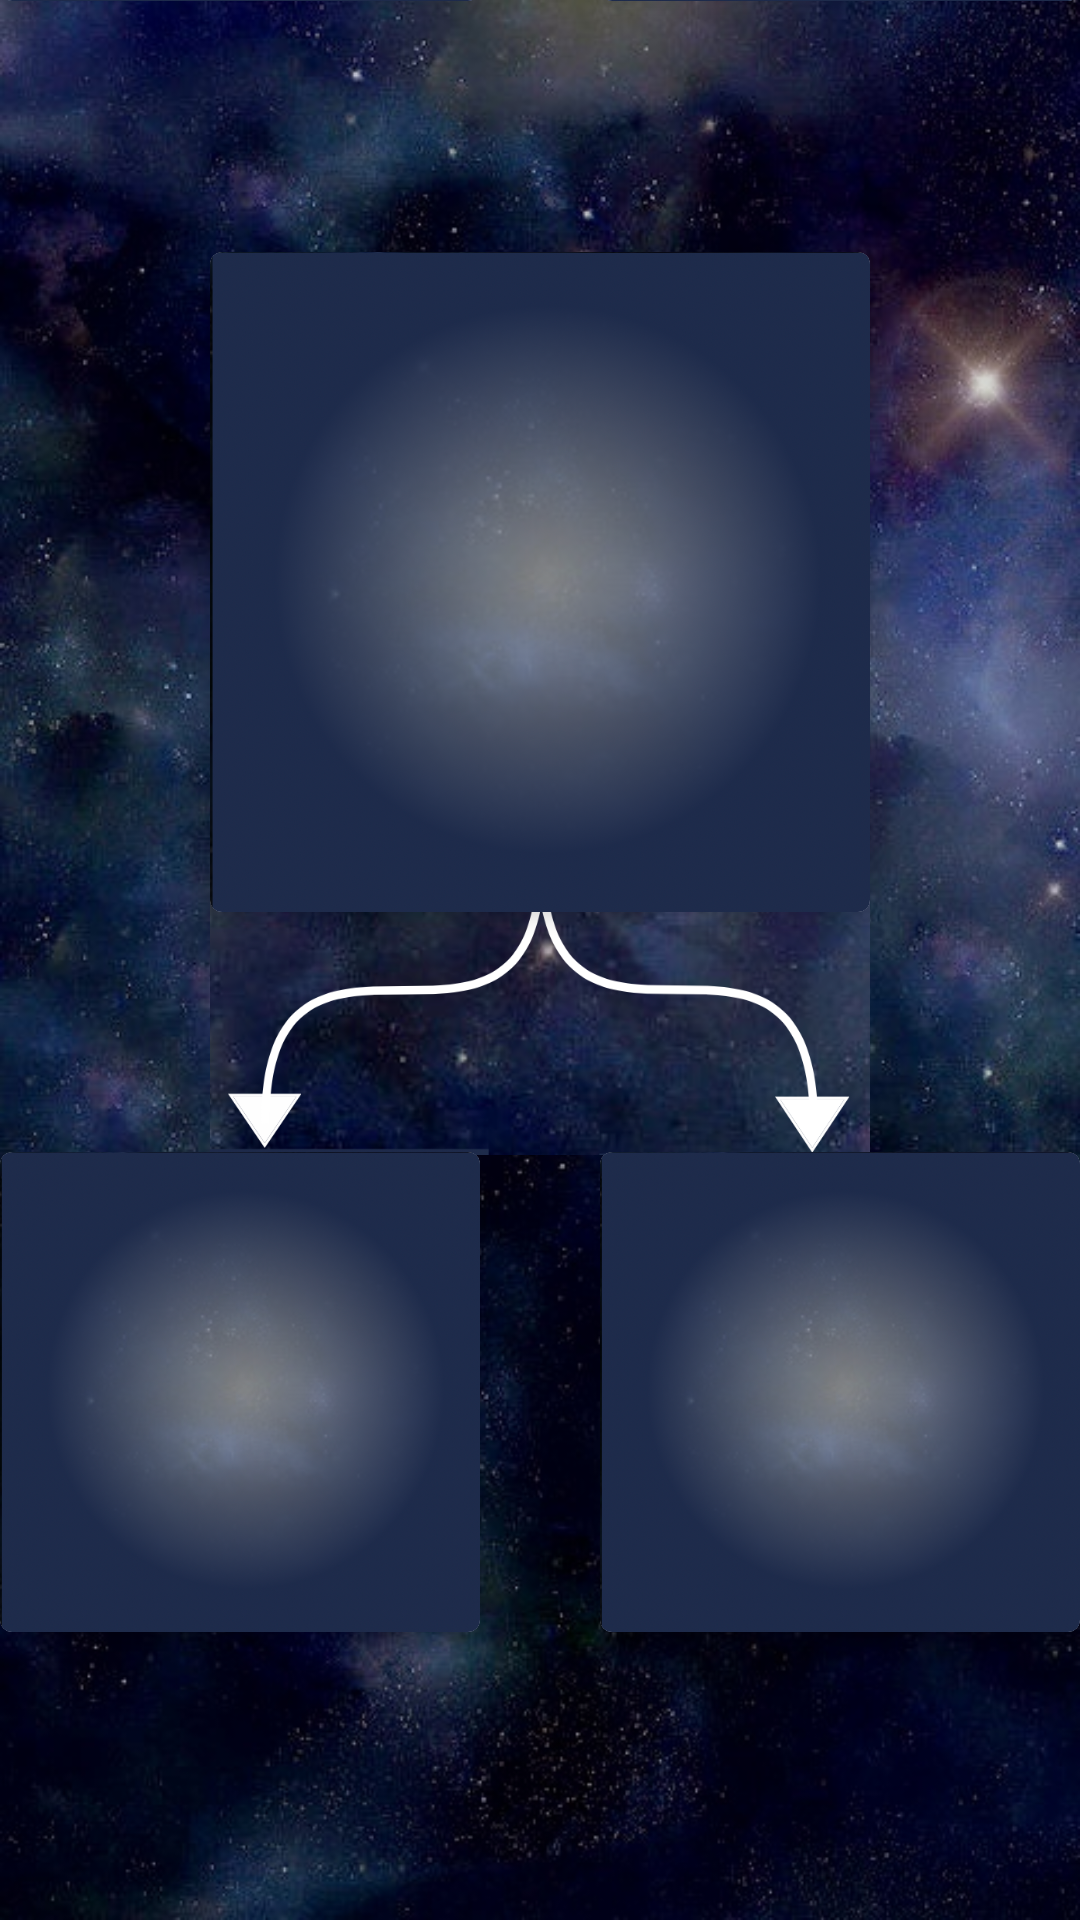

Icon bounding boxes for this 1080w x 1920h phone screenshot, format (x1, y1, x2, y2):
left arr: (210, 855, 540, 1155)
right arr: (540, 900, 870, 1155)
